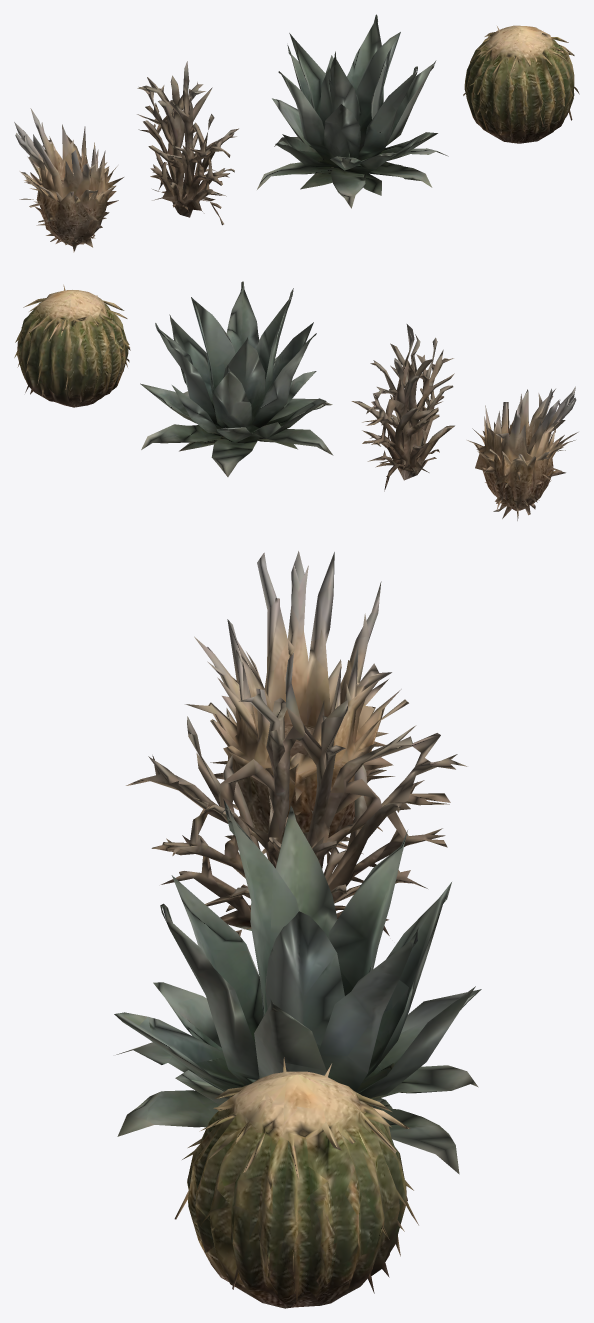
The model's file is plants_desert.glb.
The picture shows the model from 3 angles, top to bottom: view 1: azimuth 30°, elevation 25°; view 2: azimuth 150°, elevation 25°; view 3: azimuth 270°, elevation 25°; orthographic projection. The views are drawn at different scales.
Visible parts, largest first — view 1: agave, cactus_barrel, grass_dry, camelthorn; view 2: agave, cactus_barrel, grass_dry, camelthorn; view 3: agave, cactus_barrel, camelthorn, grass_dry.
Part boxes in pixels (x1,y1,x2,y2): agave: [257, 14, 448, 208]; cactus_barrel: [463, 25, 579, 143]; grass_dry: [14, 108, 123, 252]; camelthorn: [137, 61, 238, 225]; agave: [140, 281, 333, 476]; cactus_barrel: [14, 284, 130, 407]; grass_dry: [467, 386, 578, 520]; camelthorn: [351, 324, 454, 491]; agave: [114, 799, 481, 1174]; cactus_barrel: [174, 1057, 418, 1308]; camelthorn: [126, 653, 467, 935]; grass_dry: [185, 551, 408, 854].
Bounding box in the file's own units: 0.9583 × 0.2597 × 0.276.
Materials: 1 (1 with a texture image).
